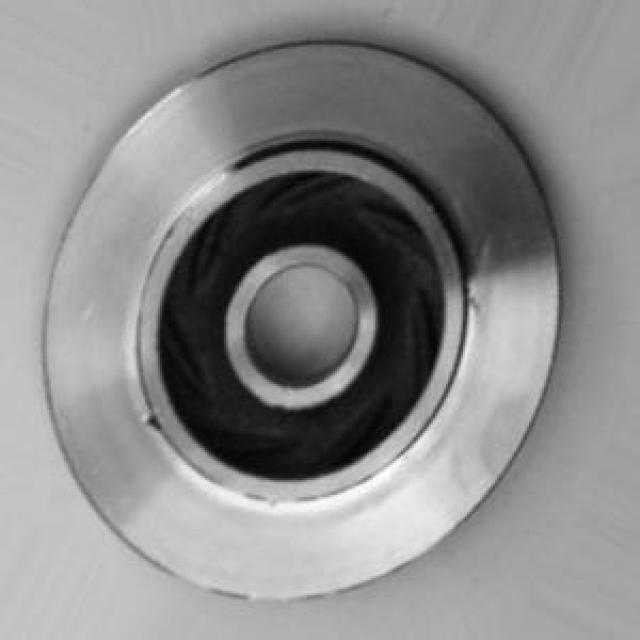Defect: (137, 410, 173, 444)
